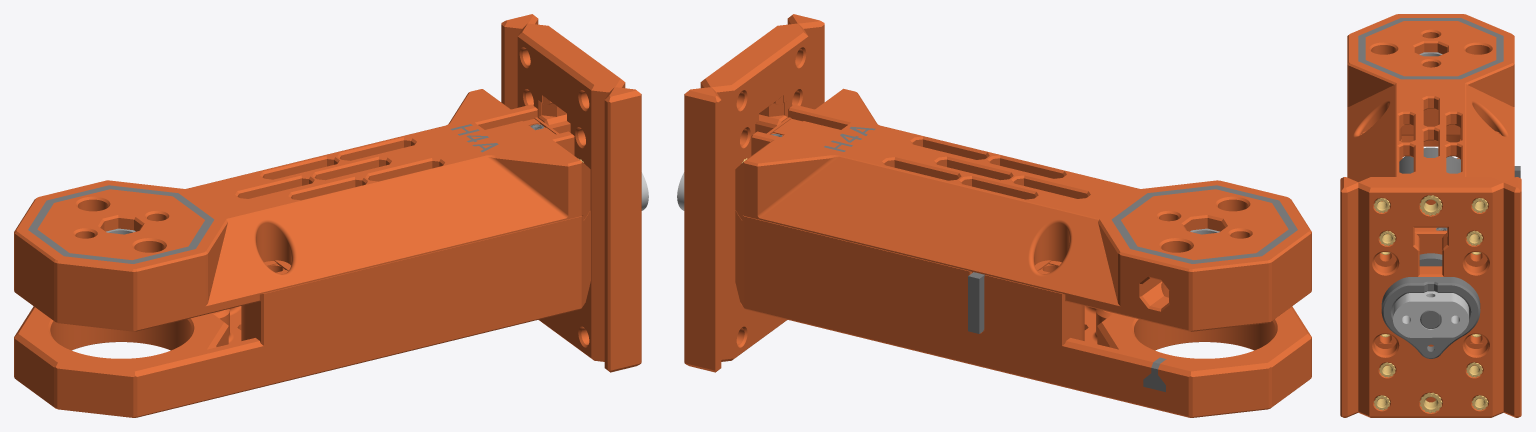
The model's file is lowerarm.dae.
3 views of the same model, side by side, from view 1: azimuth 30°, elevation 25°; view 2: azimuth 150°, elevation 25°; view 3: azimuth 270°, elevation 25° (orthographic). The views are drawn at different scales.
Parts seen in each view (by area): view 1: Unterarm Oben, Unterarm Unten, Uni-Platte EOAT, ID55; view 2: Unterarm Oben, Unterarm Unten, Uni-Platte EOAT, ID55, 2232.BX4; view 3: Uni-Platte EOAT, Unterarm Oben, Magnetplatte EOAT, Mitnehmer EOAT, ruthex RX-M3-5,7 (×8), ID55, 2232.BX4, RX-M4x4.0 (×2), H99999998-A-Alle Getriebe, Unterarm Unten.
Part boxes in pixels (x1=…): Unterarm Oben: x1=14, y1=89, x2=590, y2=331; Unterarm Unten: x1=14, y1=210, x2=590, y2=417; Uni-Platte EOAT: x1=501, y1=14, x2=641, y2=372; ID55: x1=28, y1=185, x2=214, y2=263; Unterarm Oben: x1=735, y1=88, x2=1311, y2=331; Unterarm Unten: x1=735, y1=210, x2=1311, y2=417; Uni-Platte EOAT: x1=684, y1=14, x2=824, y2=372; ID55: x1=1111, y1=185, x2=1297, y2=263; 2232.BX4: x1=968, y1=272, x2=984, y2=333; Uni-Platte EOAT: x1=1340, y1=177, x2=1521, y2=417; Unterarm Oben: x1=1347, y1=14, x2=1514, y2=254; Magnetplatte EOAT: x1=1381, y1=277, x2=1480, y2=358; Mitnehmer EOAT: x1=1393, y1=291, x2=1468, y2=337; ruthex RX-M3-5,7 (×8): x1=1373, y1=198, x2=1488, y2=410; ID55: x1=1358, y1=18, x2=1503, y2=79; 2232.BX4: x1=1399, y1=147, x2=1520, y2=177; RX-M4x4.0 (×2): x1=1419, y1=195, x2=1442, y2=413; H99999998-A-Alle Getriebe: x1=1419, y1=253, x2=1442, y2=328; Unterarm Unten: x1=1399, y1=135, x2=1460, y2=161.
Bounding box in the file's own units: 0.1572 × 0.05 × 0.07.
